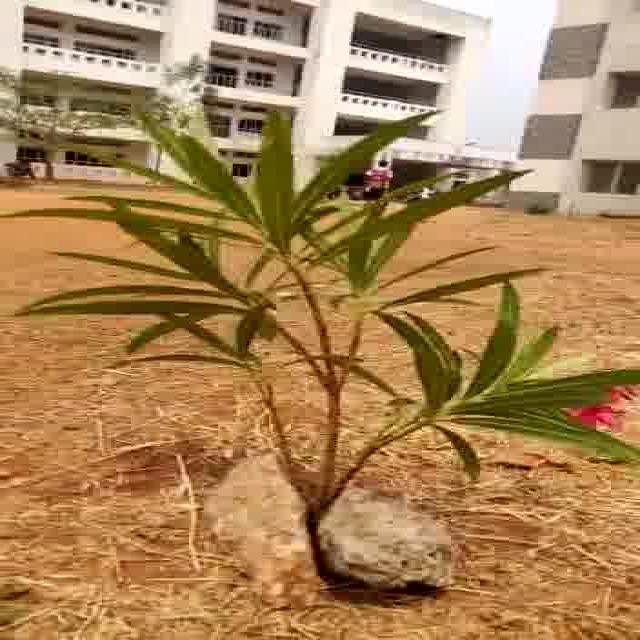Oleander: (81, 142, 632, 483)
